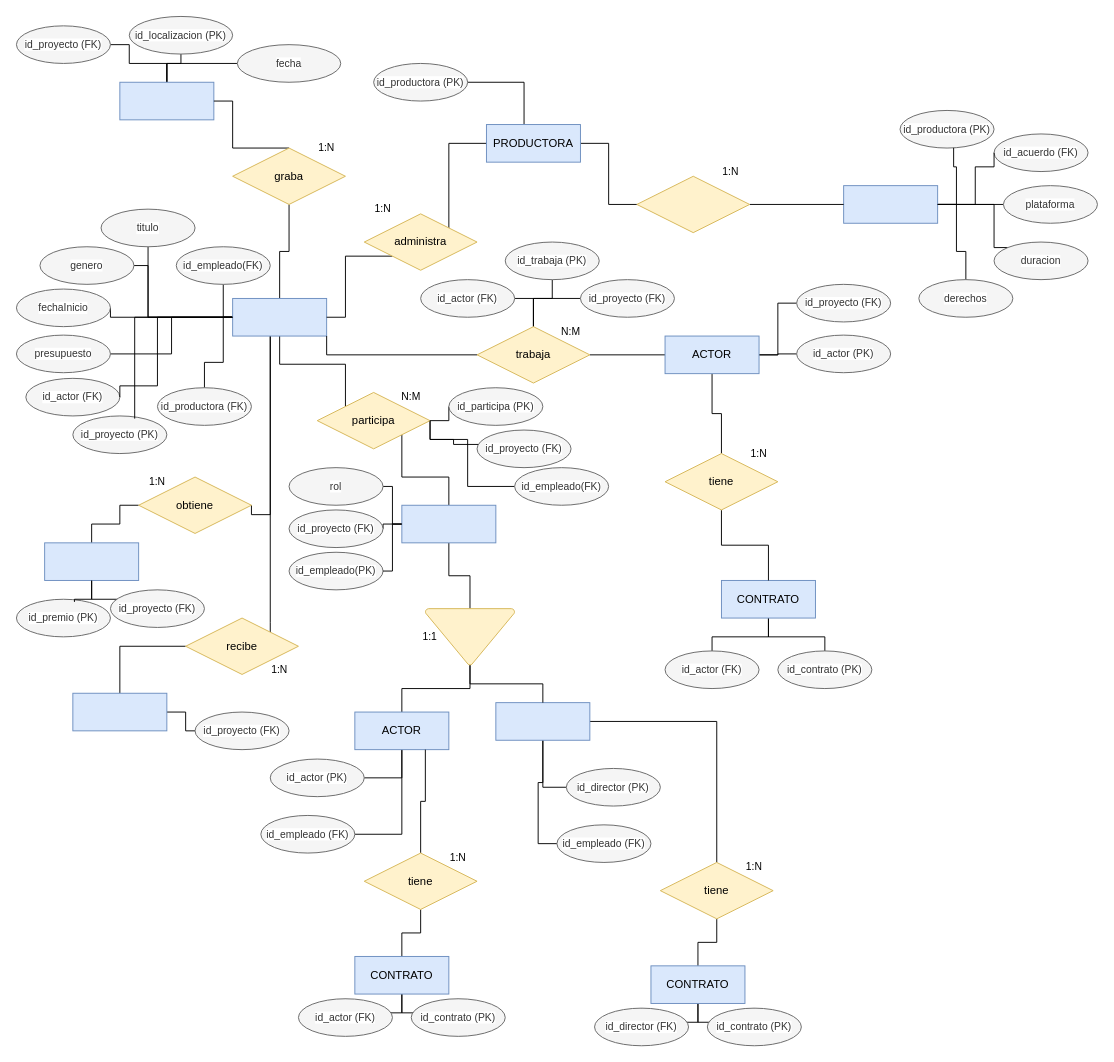
Some shapes in this 1114 by 1062 pixel diagram are drawn without their labels. Each missing label, with the centre of its shape:
"ACUERDO DISTRIBUCION" goes at [890,204].
"CRITICA" goes at [119,711].
"DIRECTOR" goes at [542,721].
"EMPLEADO" goes at [448,523].
"es_actor" goes at [469,636].
"firma" goes at [693,204].
"LOCALIZACION" goes at [166,100].
"PREMIO" goes at [91,561].
"PROYECTO" goes at [279,317].
